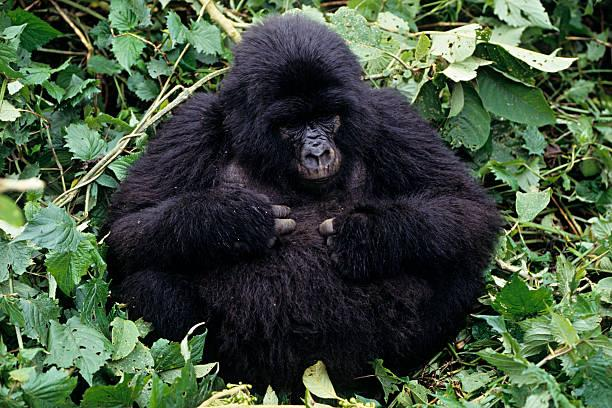goriile_montagne: (97, 8, 511, 385)
